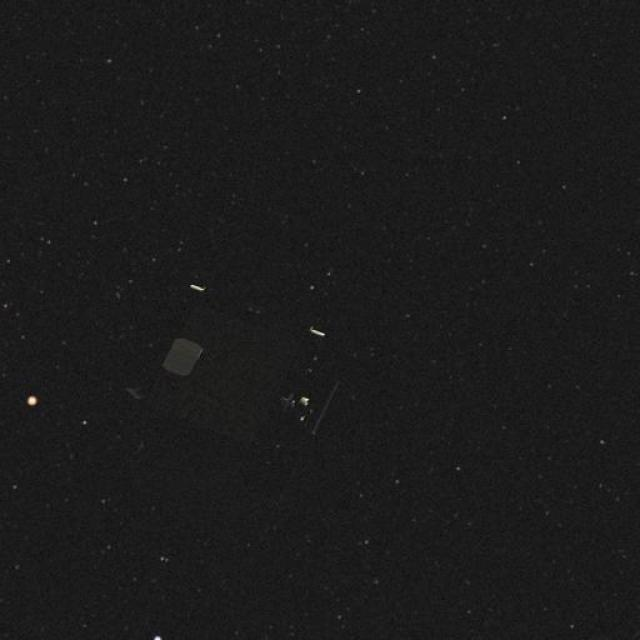proba_3_csc: (69, 230, 389, 488)
